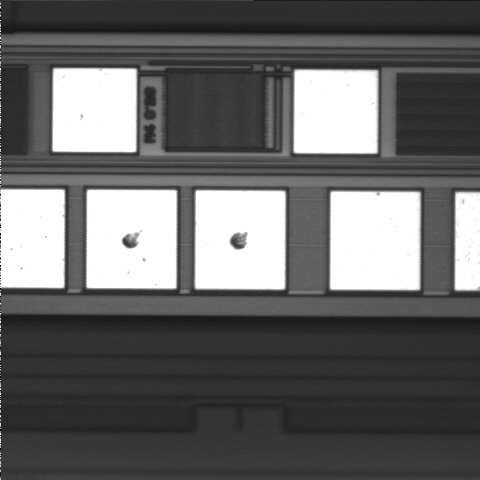pad: (87, 190, 177, 289), (195, 190, 285, 289), (330, 192, 420, 290), (53, 68, 136, 152), (294, 70, 378, 153)
